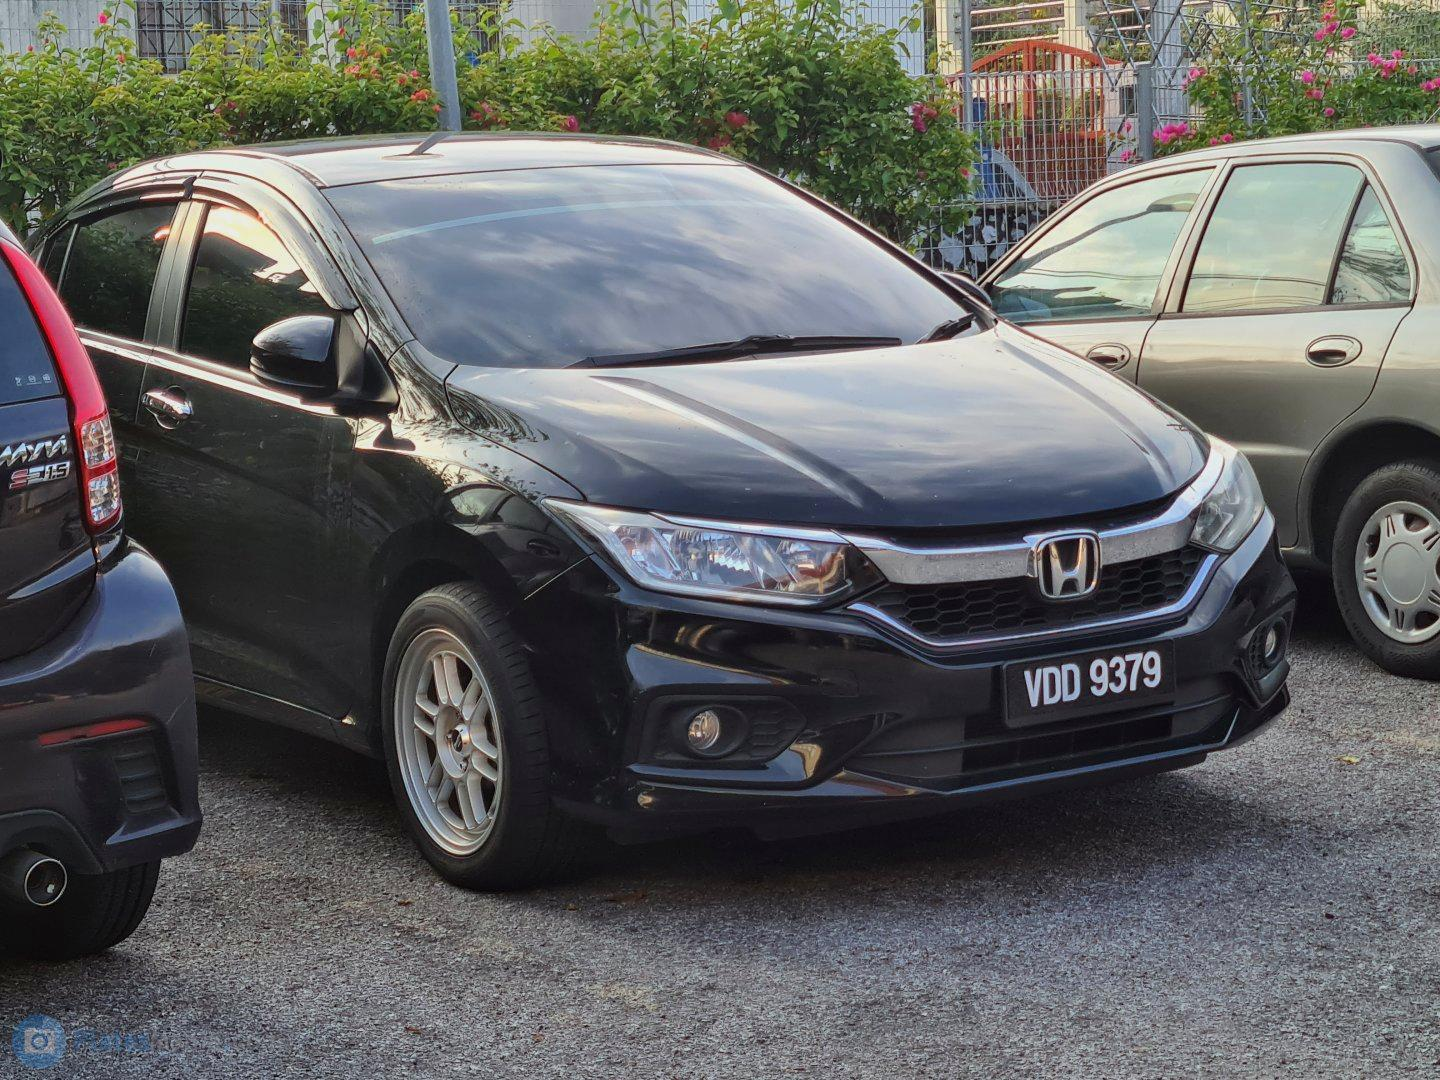License Plate: (1007, 642, 1176, 727)
